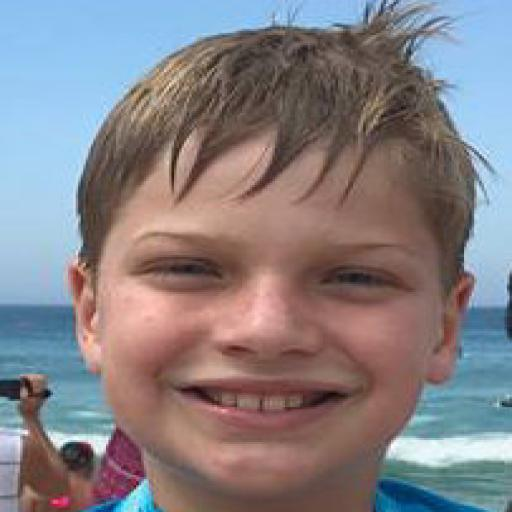Autism: (27, 22, 512, 512)
